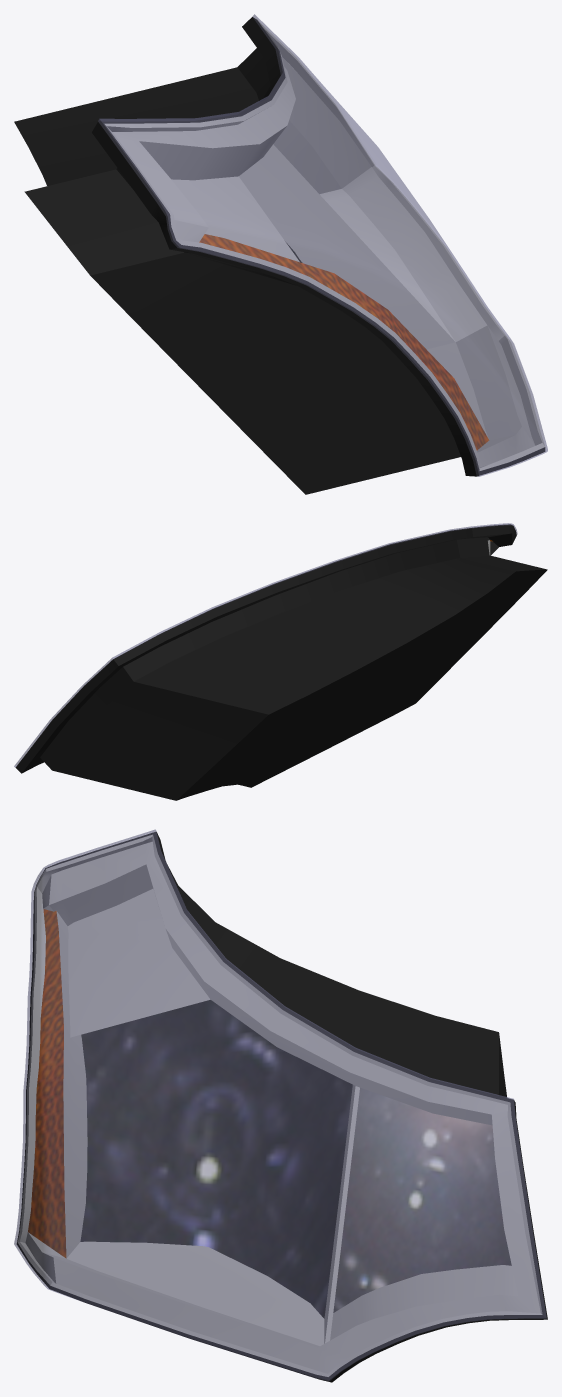
The picture shows the model from 3 angles, top to bottom: view 1: azimuth 30°, elevation 25°; view 2: azimuth 150°, elevation 25°; view 3: azimuth 270°, elevation 25°; orthographic projection. The views are drawn at different scales.
Visible parts, largest first — view 1: P159_061B_R_P159_061B_R_3_D, P159_061B_R_P159_061B_R_6_DTaSI, P159_061B_R_P159_061B_R_2_DaS, P159_061B_R_P159_061B_R_5_N; view 2: P159_061B_R_P159_061B_R_3_D, P159_061B_R_P159_061B_R_6_DTaSI; view 3: P159_061B_R_P159_061B_R_6_DTaSI, P159_061B_R_P159_061B_R_2_DaS, P159_061B_R_P159_061B_R_4_N, P159_061B_R_1_N_P159_061B_R, P159_061B_R_P159_061B_R_3_D, P159_061B_R_P159_061B_R_5_N.
Part boxes in pixels (x1,y1,x2,y2): P159_061B_R_P159_061B_R_3_D: [14, 17, 545, 494]; P159_061B_R_P159_061B_R_6_DTaSI: [98, 14, 547, 476]; P159_061B_R_P159_061B_R_2_DaS: [105, 21, 544, 470]; P159_061B_R_P159_061B_R_5_N: [199, 234, 488, 450]; P159_061B_R_P159_061B_R_3_D: [15, 524, 547, 800]; P159_061B_R_P159_061B_R_6_DTaSI: [14, 523, 517, 767]; P159_061B_R_P159_061B_R_6_DTaSI: [14, 829, 546, 1381]; P159_061B_R_P159_061B_R_2_DaS: [18, 834, 542, 1376]; P159_061B_R_P159_061B_R_4_N: [80, 1000, 352, 1318]; P159_061B_R_1_N_P159_061B_R: [333, 1088, 511, 1312]; P159_061B_R_P159_061B_R_3_D: [17, 831, 547, 1382]; P159_061B_R_P159_061B_R_5_N: [28, 909, 66, 1257].
Bounding box in the file's own units: 48.2 × 33.68 × 46.24.
